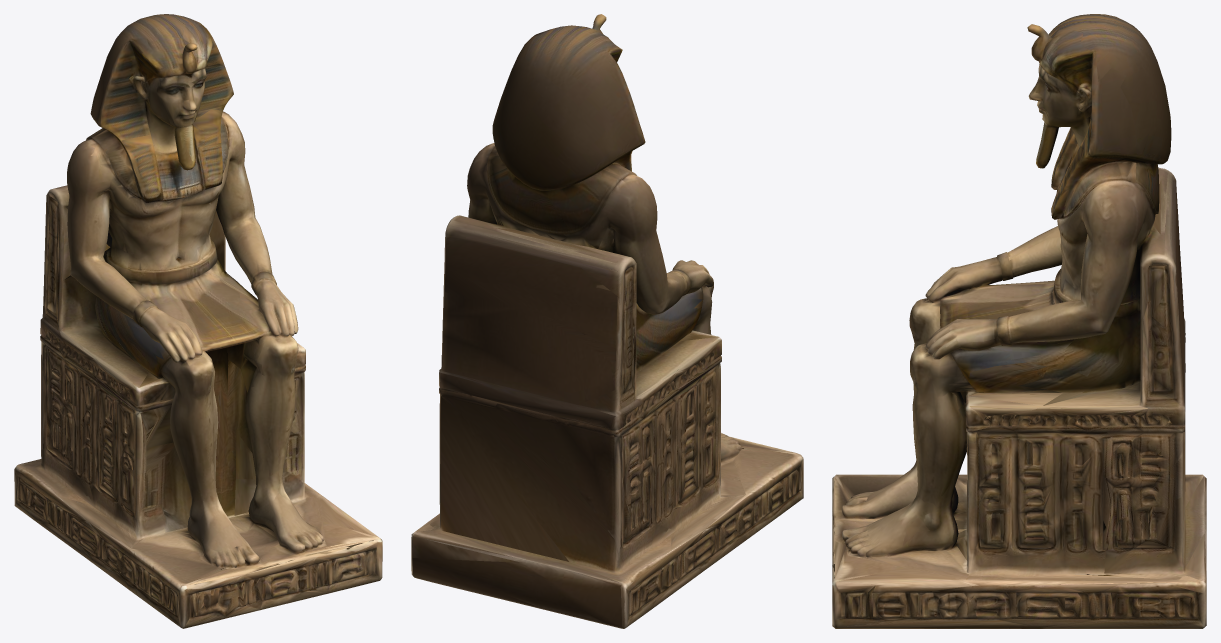
Rendered from egy-pharaoh-statue.glb.
3 views of the same model, side by side, from view 1: azimuth 30°, elevation 25°; view 2: azimuth 150°, elevation 25°; view 3: azimuth 270°, elevation 25° (orthographic). The views are drawn at different scales.
Visible parts, largest first — view 1: model; view 2: model; view 3: model.
Part boxes in pixels (x1,y1,x2,y2): model: (14, 14, 382, 628); model: (411, 14, 803, 628); model: (832, 14, 1206, 628).
Size of the model in its own units: 1.48 by 3.5 by 2.14.
Materials: 1 (1 with a texture image).
